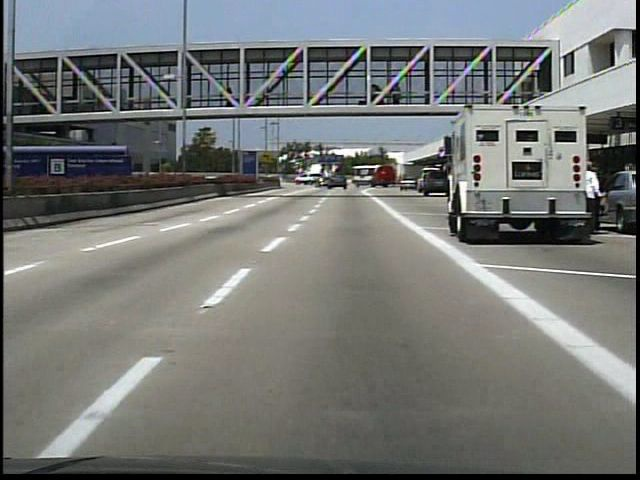person: (582, 155, 603, 232)
